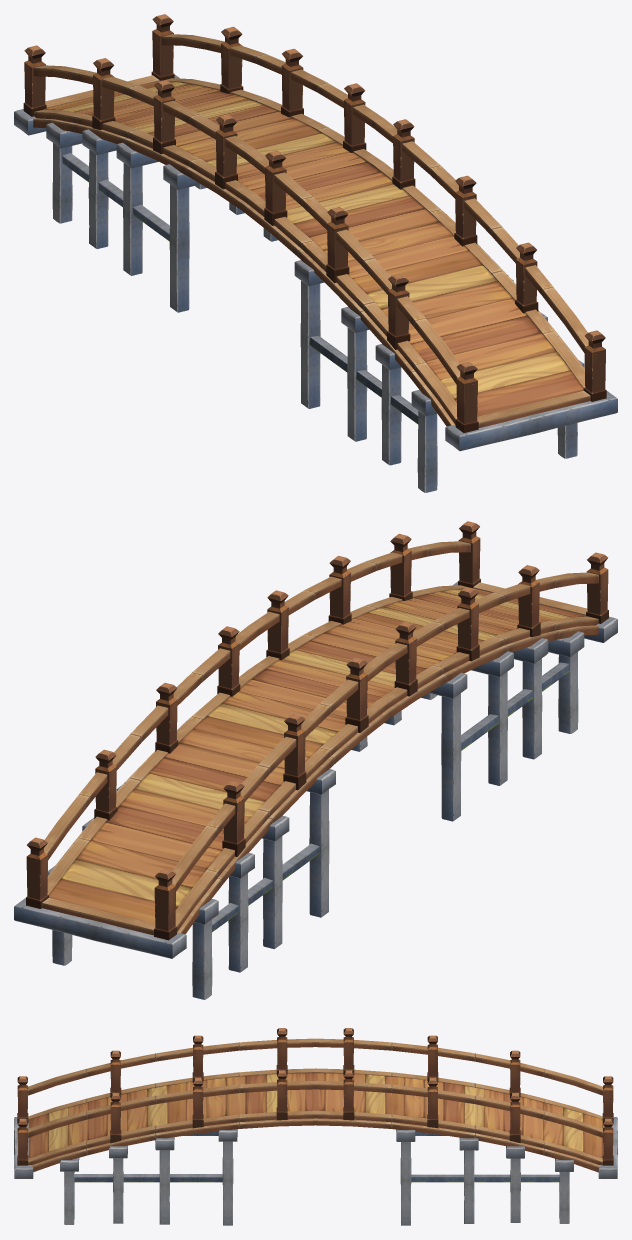
The model's file is CBS_ground_bridge_1.FBX.
The picture shows the model from 3 angles, top to bottom: view 1: azimuth 30°, elevation 25°; view 2: azimuth 150°, elevation 25°; view 3: azimuth 270°, elevation 25°; orthographic projection. The views are drawn at different scales.
Parts seen in each view (by area): view 1: CBS_ground_bridge_1; view 2: CBS_ground_bridge_1; view 3: CBS_ground_bridge_1.
Boxes of the visible parts, x1=… form: CBS_ground_bridge_1: x1=14, y1=14, x2=617, y2=492; CBS_ground_bridge_1: x1=14, y1=521, x2=617, y2=999; CBS_ground_bridge_1: x1=14, y1=1028, x2=617, y2=1225.
Bounding box in the file's own units: 307 × 409 × 1495.
